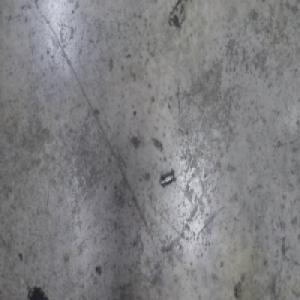Bolt: (160, 169, 176, 189)
